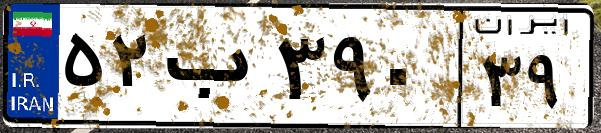0: (385, 28, 445, 110)
2: (110, 28, 158, 98)
3: (270, 28, 330, 110), (475, 38, 525, 113)
5: (57, 26, 110, 100)
9: (330, 28, 385, 110), (525, 38, 570, 115)
ب: (158, 20, 270, 120)
